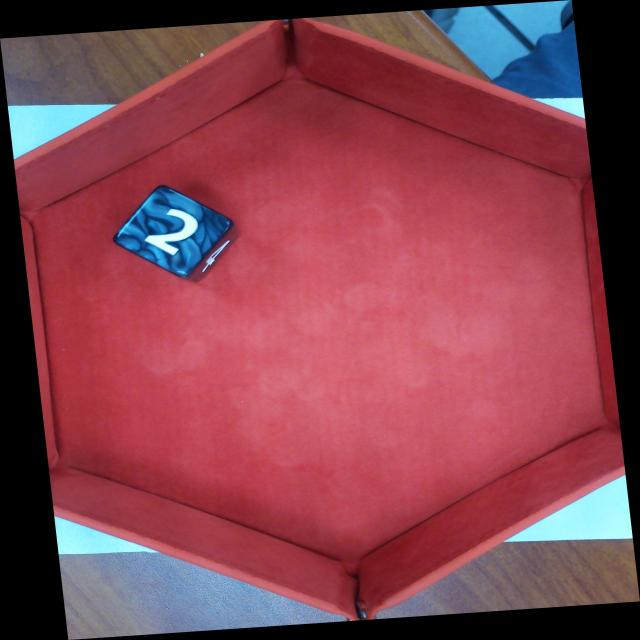dice: (113, 185, 233, 278)
